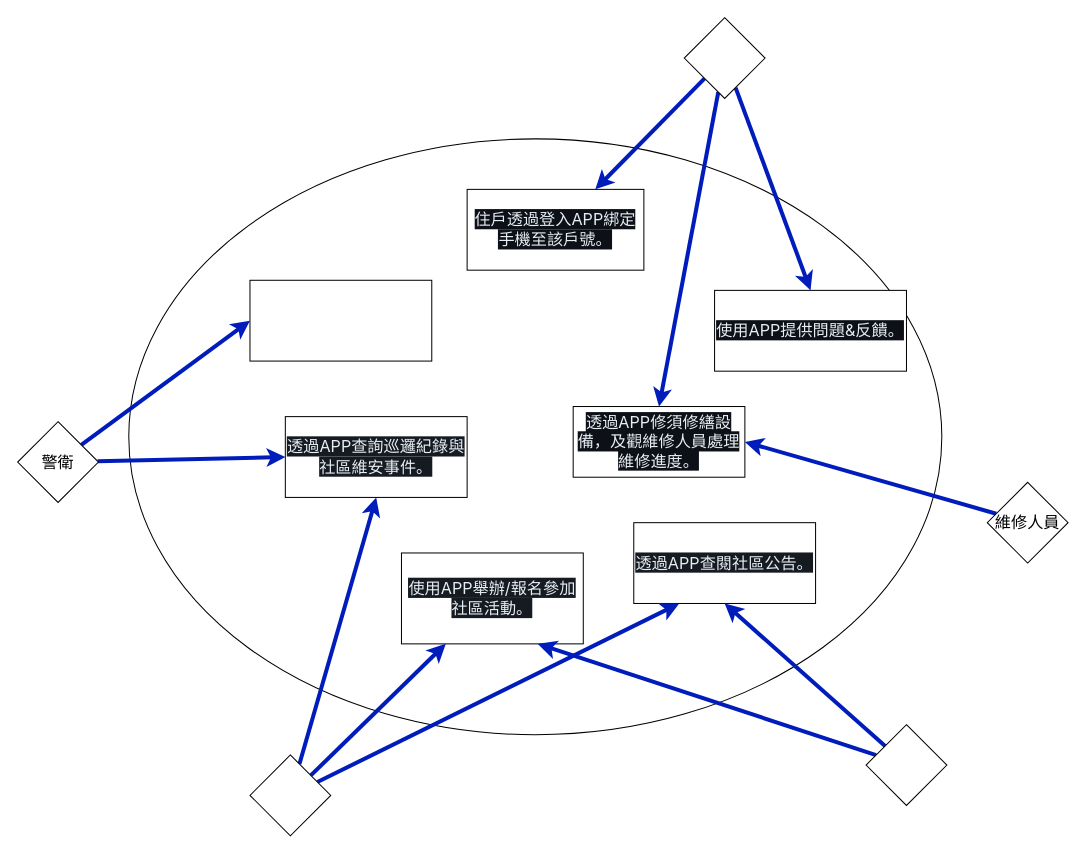
This 1086x853 diagram has some shape labels left out. Each missing label, with the centre of its shape:
"主任委員" belongs at point (290, 795).
"住戶" belongs at point (724, 57).
"各項委員" belongs at point (906, 764).
"接收信件/包裹通知" belongs at point (340, 320).
